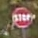stop: (10, 7, 33, 28)
